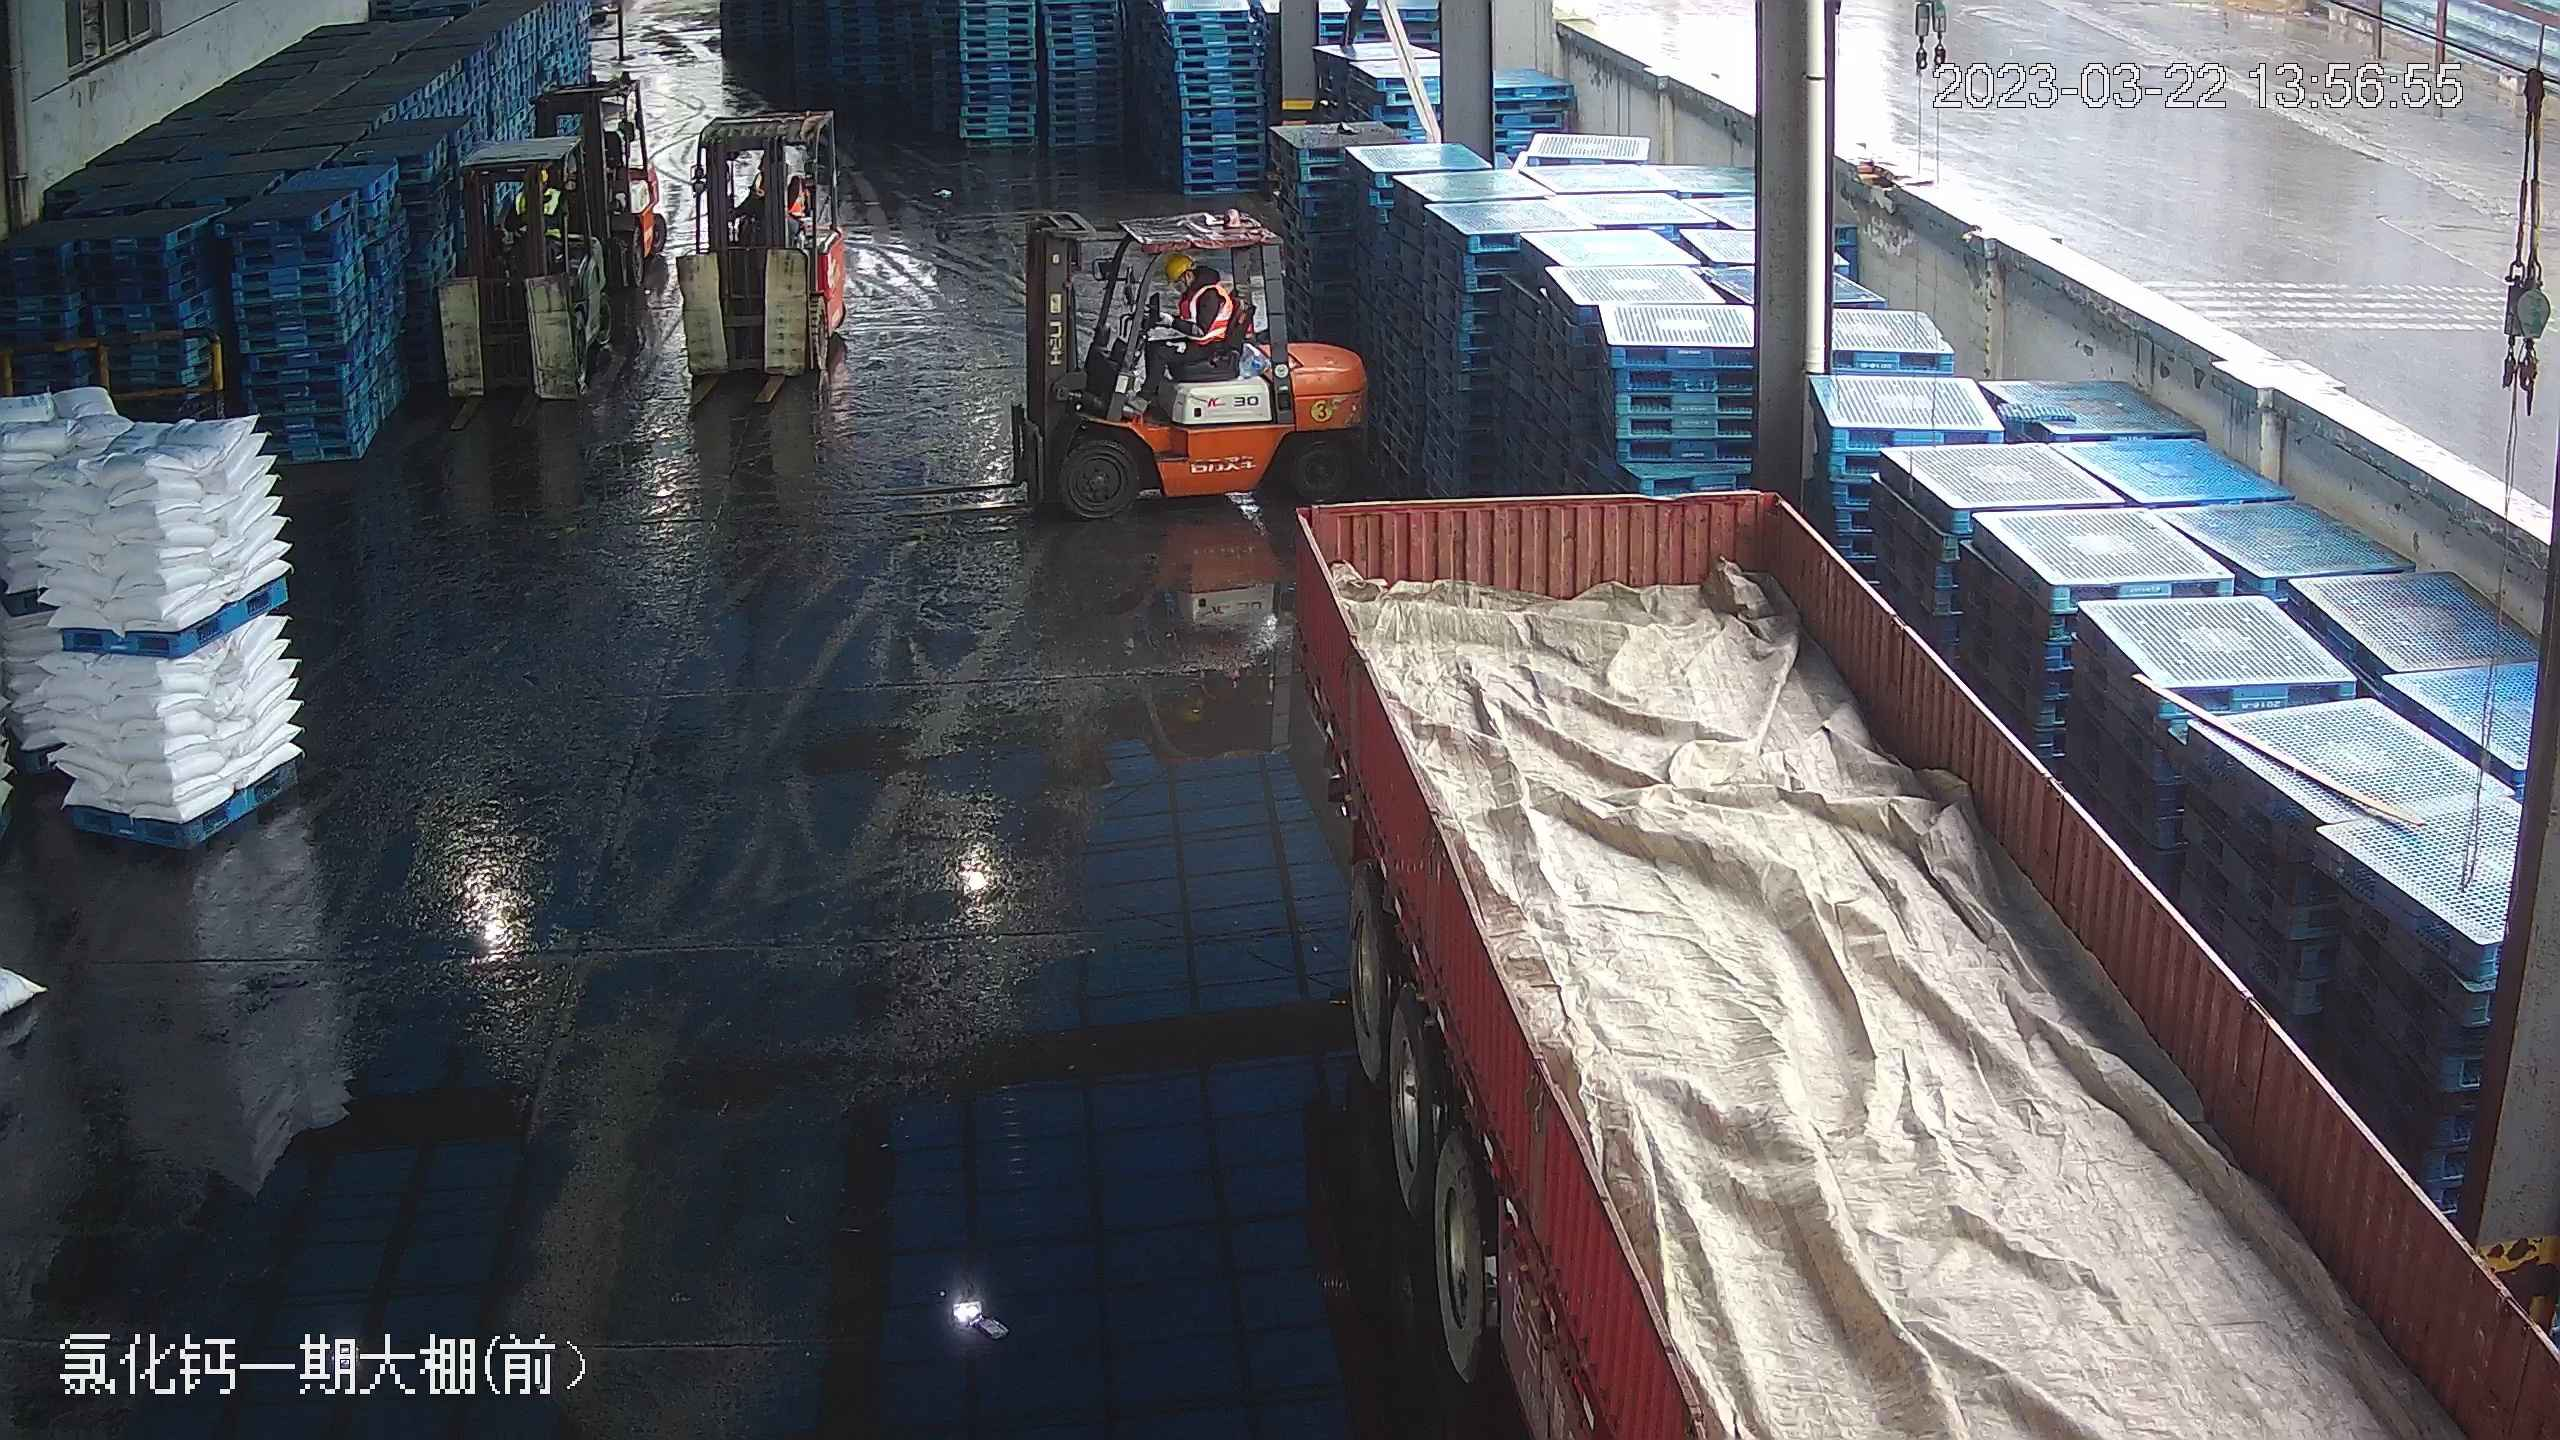head: (1160, 253, 1230, 319)
helmet: (1163, 253, 1196, 278)
people: (1133, 249, 1236, 409)
truck: (1229, 482, 2541, 1440)
